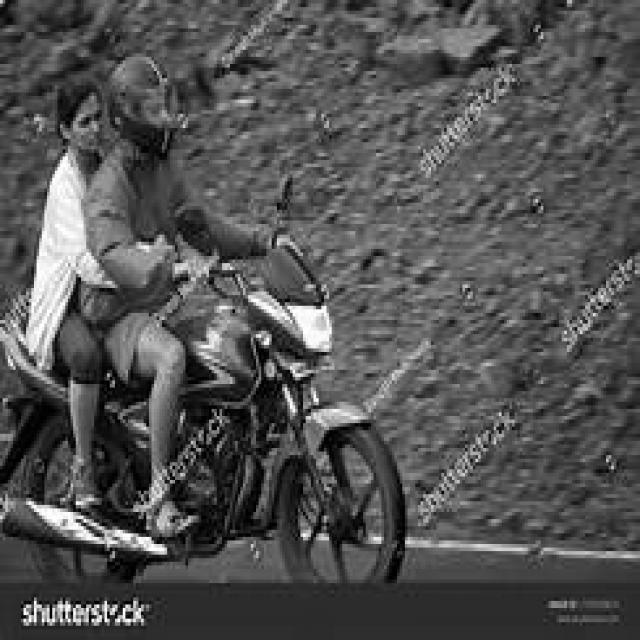Two Wheeler: (0, 235, 404, 583), (39, 551, 64, 576), (276, 175, 291, 215)
